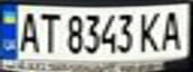3: (115, 10, 139, 54), (81, 11, 103, 55)
4: (100, 10, 121, 54)
8: (63, 10, 84, 55)
A: (157, 7, 187, 52), (15, 8, 42, 54)
K: (136, 9, 163, 54)
T: (36, 9, 60, 54)
